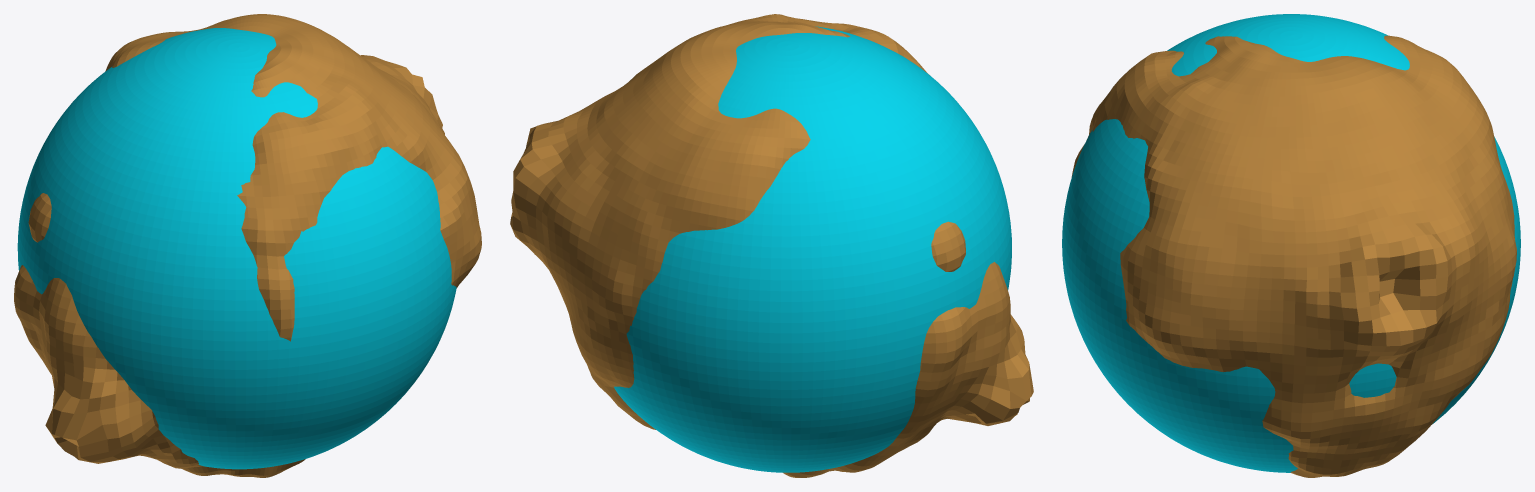
File: planet_nz.fbx
3 views of the same model, side by side, from view 1: azimuth 30°, elevation 25°; view 2: azimuth 150°, elevation 25°; view 3: azimuth 270°, elevation 25° (orthographic). The views are drawn at different scales.
Parts seen in each view (by area): view 1: Sphere.001, Sphere; view 2: Sphere.001, Sphere; view 3: Sphere, Sphere.001.
Boxes of the visible parts, x1,y1,x2,y2 form: Sphere.001: (17, 28, 456, 469); Sphere: (14, 14, 481, 477); Sphere.001: (614, 26, 1011, 472); Sphere: (510, 14, 1033, 477); Sphere: (1071, 35, 1516, 477); Sphere.001: (1062, 14, 1520, 472).
Size of the model in its own units: 242 by 216 by 209.
